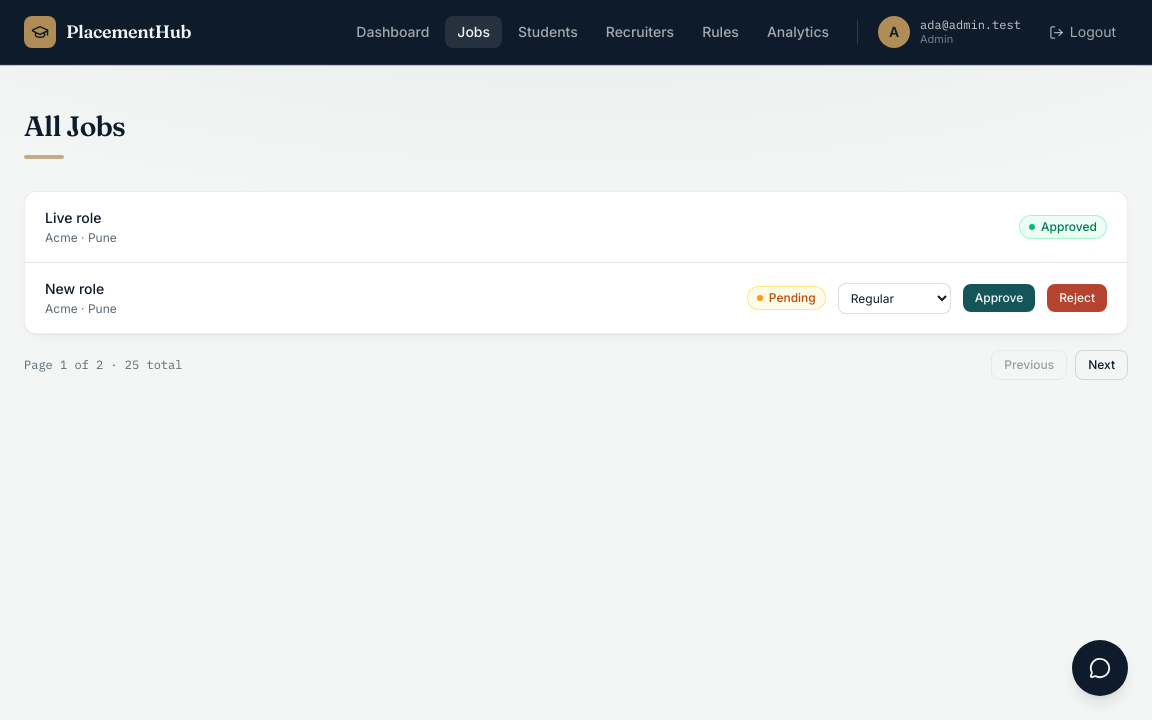
Admin jobs page › pages through all jobs, with buttons only on pending ones
The width and height of the screenshot is (1152, 720).
Expected: the text "Page 1 of 2 · 25 total" is shown, [24,357,182,373]
Expected: the number of buttons "Approve" is 1, [963,284,1035,312]
Step 1. Click the button "Next" → x=1102, y=365, box [1075,350,1128,380]
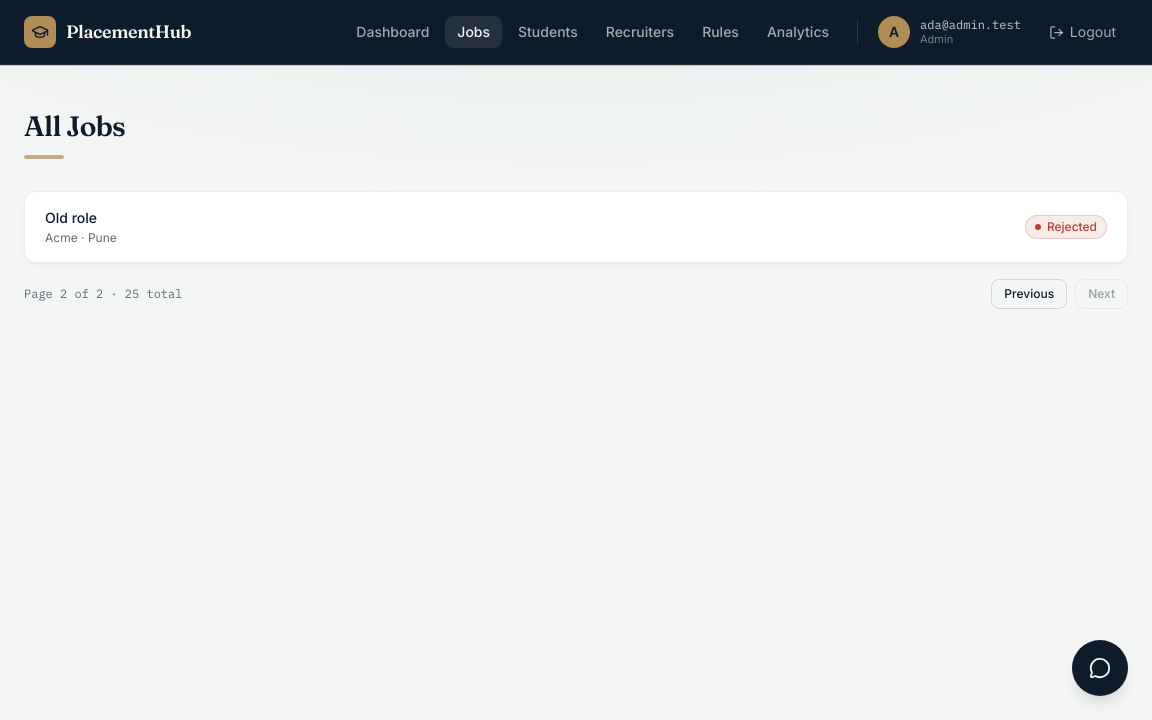
Expected: the text "Old role" is shown, [45,209,97,226]
